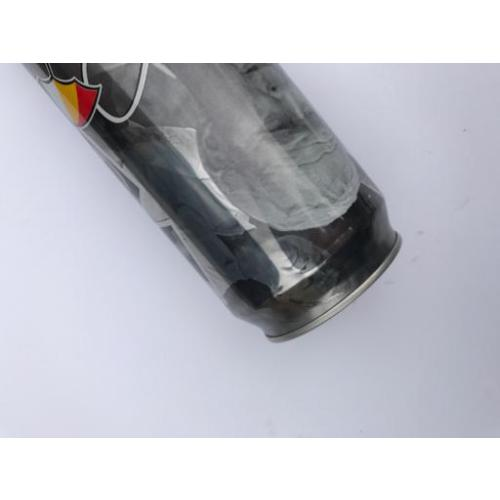metal: (28, 62, 401, 346)
